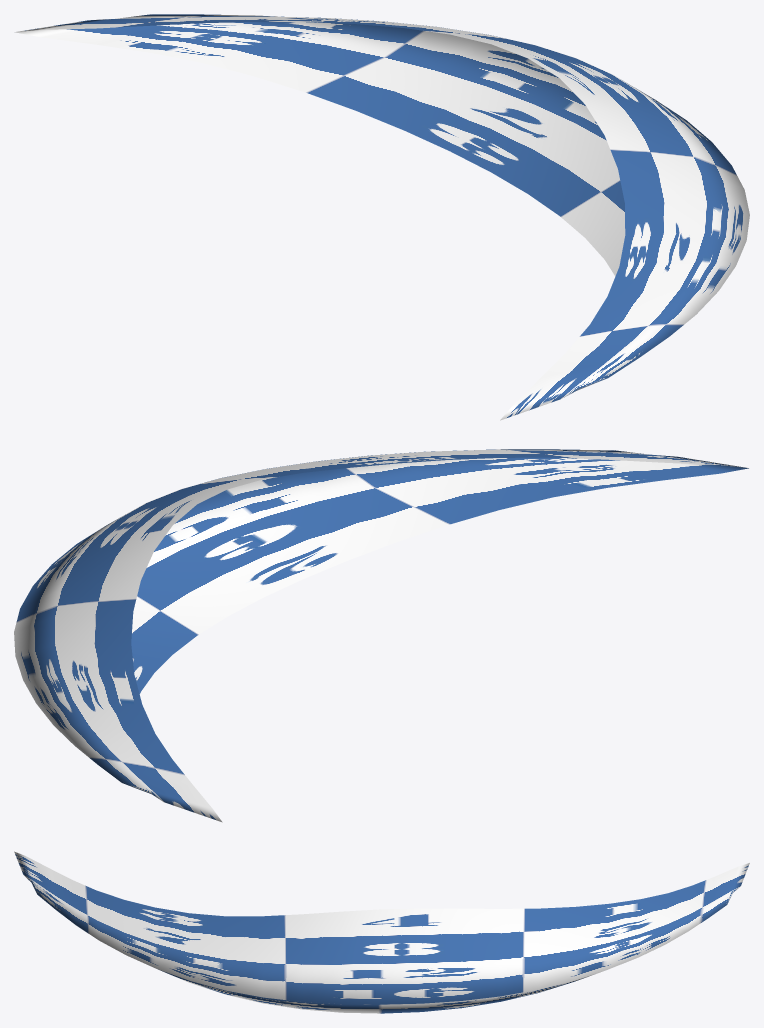
The model's file is Slash006.fbx.
3 views of the same model, one above another, from view 1: azimuth 30°, elevation 25°; view 2: azimuth 150°, elevation 25°; view 3: azimuth 270°, elevation 25° (orthographic). The views are drawn at different scales.
Visible parts, largest first — view 1: SM_e_Useful_Slash006; view 2: SM_e_Useful_Slash006; view 3: SM_e_Useful_Slash006.
Part boxes in pixels (x1,y1,x2,y2): SM_e_Useful_Slash006: [14, 14, 749, 420]; SM_e_Useful_Slash006: [14, 449, 748, 822]; SM_e_Useful_Slash006: [14, 851, 749, 1013].
Bounding box in the file's own units: 1148 × 340 × 2312.
